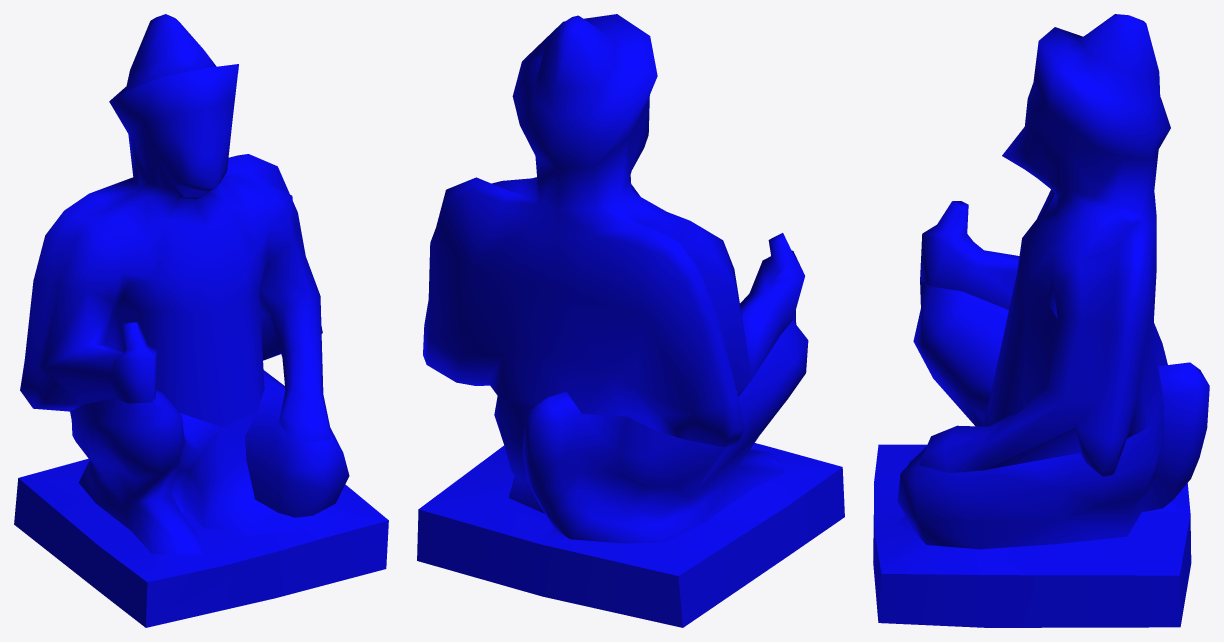
Rendered from Prop_CamodianDemonStatue1_01.FBX.
3 renders of one model, left to right at view 1: azimuth 30°, elevation 25°; view 2: azimuth 150°, elevation 25°; view 3: azimuth 270°, elevation 25°, orthographic. The views are drawn at different scales.
Visible parts, largest first — view 1: Prop_CamodianDemonStatue1_01; view 2: Prop_CamodianDemonStatue1_01; view 3: Prop_CamodianDemonStatue1_01.
Part boxes in pixels (x1,y1,x2,y2): Prop_CamodianDemonStatue1_01: (14, 14, 388, 627); Prop_CamodianDemonStatue1_01: (417, 14, 844, 627); Prop_CamodianDemonStatue1_01: (873, 14, 1209, 627).
Bounding box in the file's own units: 62.28 × 99.95 × 55.42.
